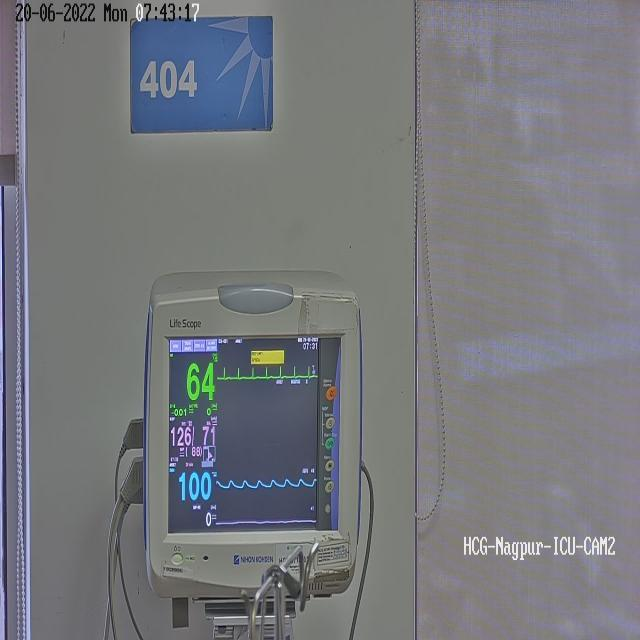Monitor: (142, 268, 364, 604)
